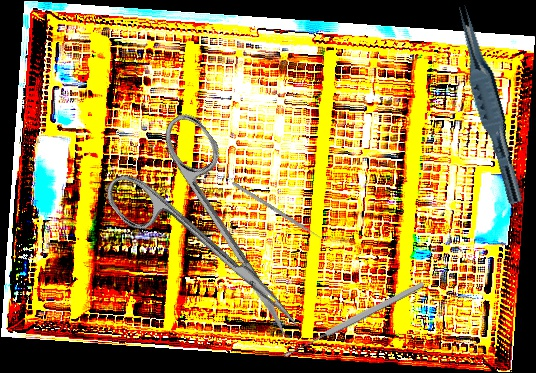Iris Scissors: (92, 107, 337, 371)
Pusher: (231, 181, 330, 245)
Surgical Spoon: (282, 280, 426, 359)
Tissue Forceps: (445, 2, 535, 206)
